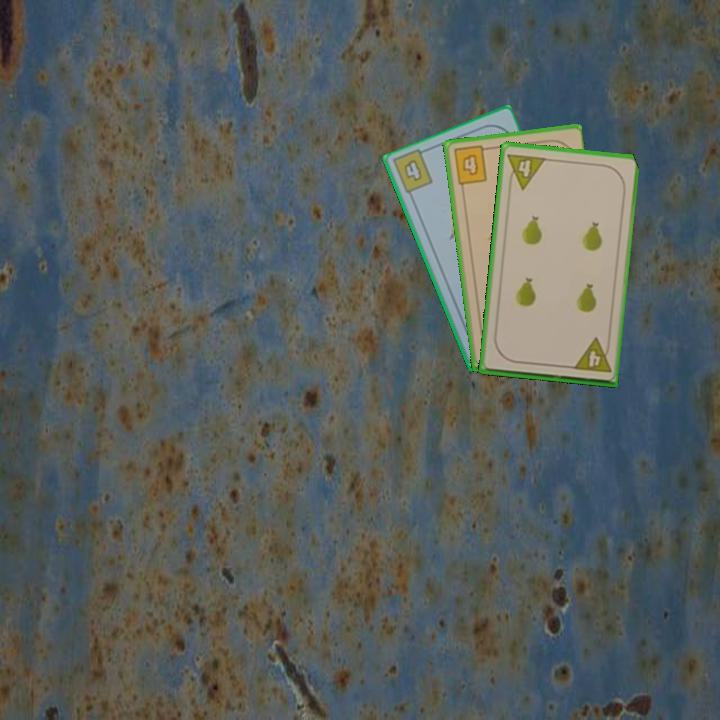4b: (450, 142, 493, 187), (400, 156, 425, 184)
4p: (504, 149, 549, 192), (569, 335, 614, 376)
